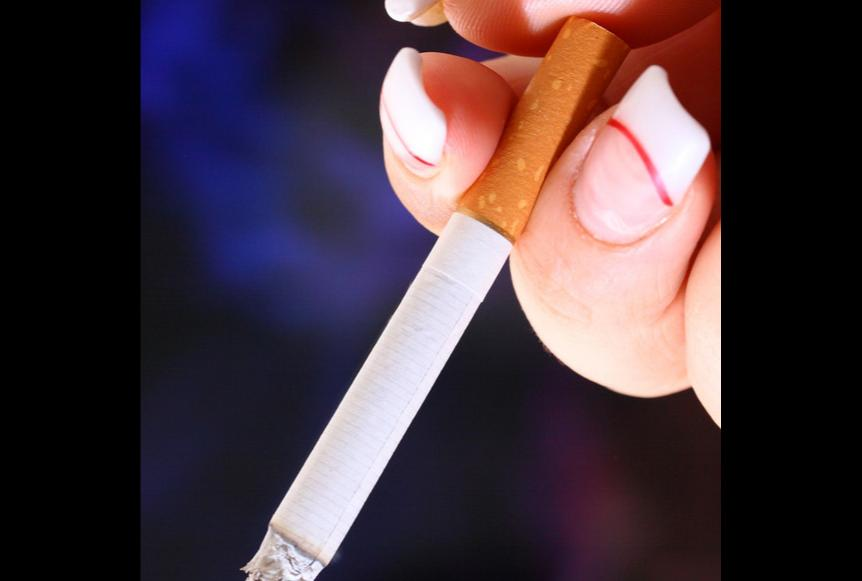Cigarette: (214, 12, 629, 581)
